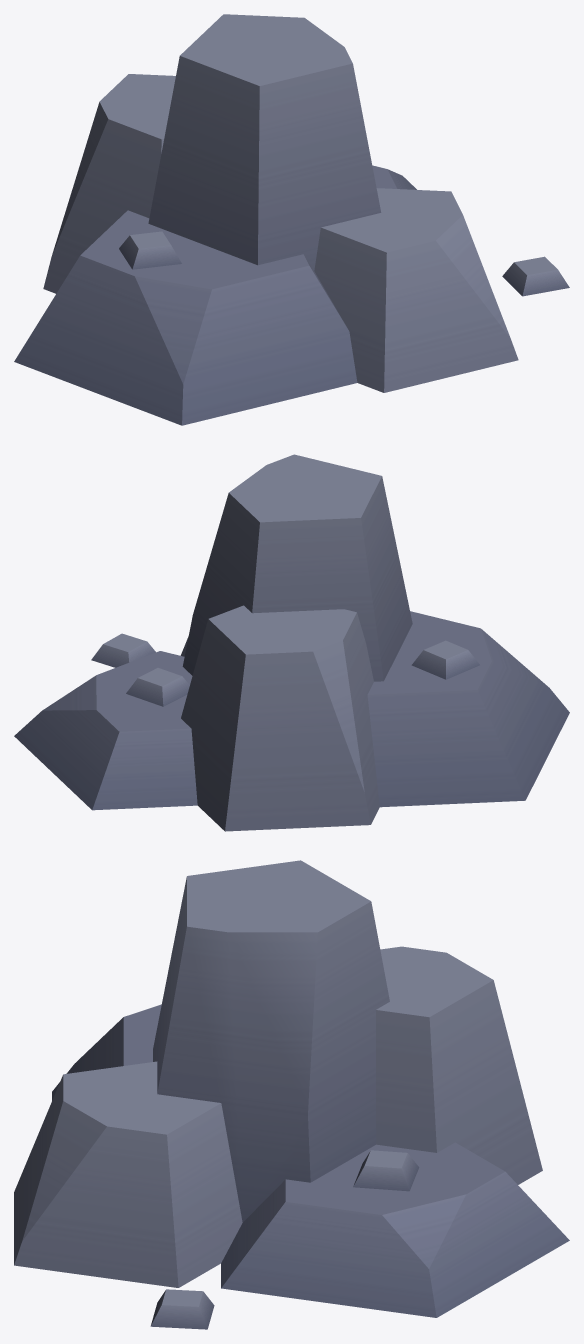
The model's file is pedra 2 cinza.glb.
The picture shows the model from 3 angles, top to bottom: view 1: azimuth 30°, elevation 25°; view 2: azimuth 150°, elevation 25°; view 3: azimuth 270°, elevation 25°; orthographic projection. The views are drawn at different scales.
Parts seen in each view (by area): view 1: rock-b; view 2: rock-b; view 3: rock-b.
Boxes of the visible parts, box(x1,y1,x2,y2) form: rock-b: box(14, 14, 569, 425); rock-b: box(14, 454, 569, 831); rock-b: box(14, 860, 569, 1329).
Size of the model in its own units: 0.8346 by 0.4186 by 0.7247.
1 material, 1 textured.
